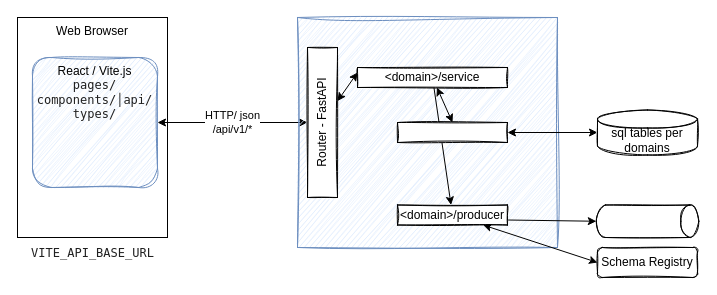
The diagram is 717 pixels wide and 295 high, and some of its shapes have lost their labels. The box of each missing label's shape, as (x1, y1, x2, y2) in pixels:
<domain>/DAO: (396, 122, 508, 142)
Backend: (296, 16, 558, 248)
kafka topics per domain: (595, 204, 699, 238)
